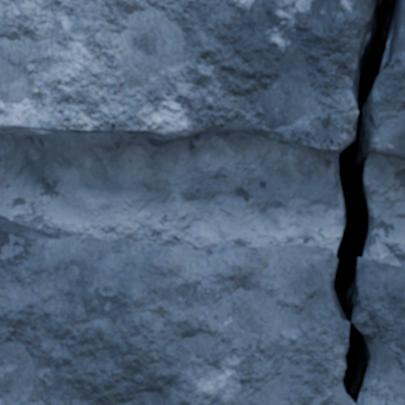broken_brick: (0, 214, 353, 404), (0, 0, 368, 154), (353, 258, 404, 404), (367, 4, 404, 160)
crack: (322, 0, 404, 404)
